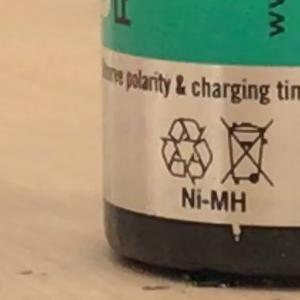keyword: (172, 181, 256, 218)
